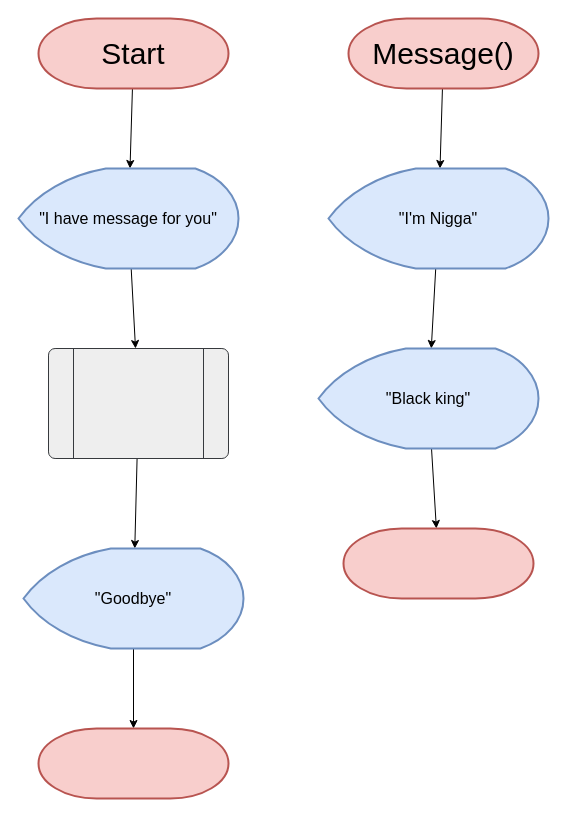
The diagram is 566 pixels wide and 816 high, and some of its shapes have lost their labels. Each missing label, with the centre of its shape:
"Massage()" goes at point 138,403.
"Return" goes at point 438,563.
"Stop" goes at point 133,763.
